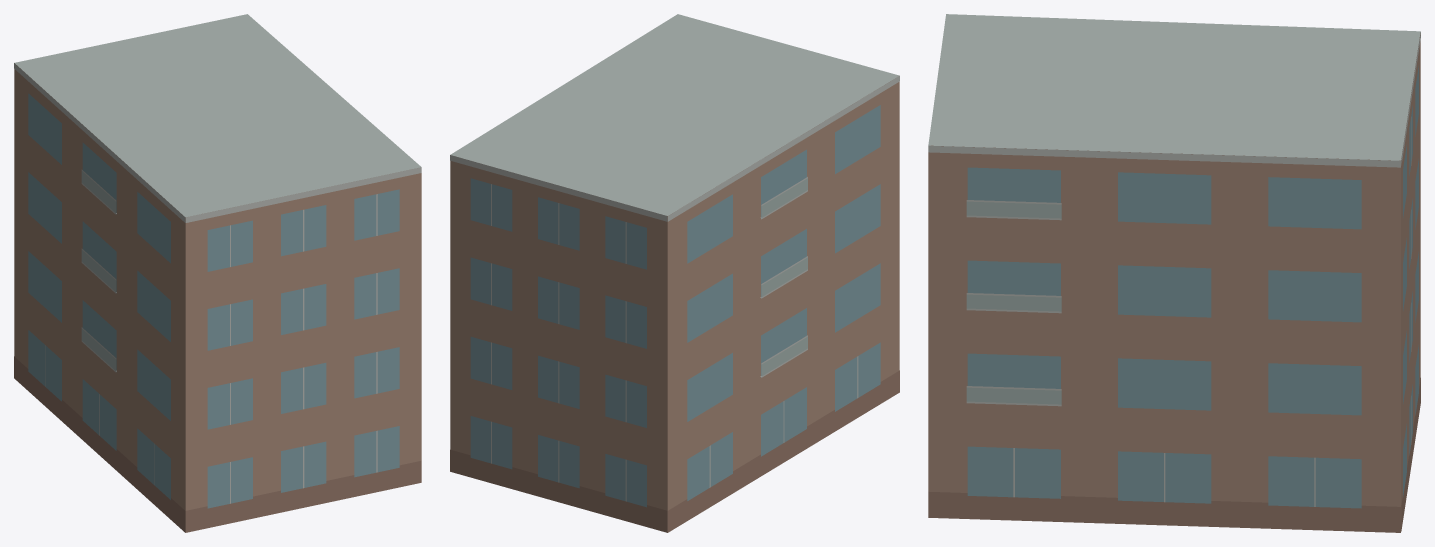
File: survey-upis-32873142.glb
3 renders of one model, left to right at view 1: azimuth 30°, elevation 25°; view 2: azimuth 150°, elevation 25°; view 3: azimuth 270°, elevation 25°, orthographic. The views are drawn at different scales.
Visible parts, largest first — view 1: survey-upis-32873142.tmp; view 2: survey-upis-32873142.tmp; view 3: survey-upis-32873142.tmp.
Part boxes in pixels (left/top/right/bottom): survey-upis-32873142.tmp: left=14, top=14, right=421, bottom=532; survey-upis-32873142.tmp: left=450, top=14, right=899, bottom=532; survey-upis-32873142.tmp: left=928, top=14, right=1420, bottom=532.
Size of the model in its own units: 11.26 by 13.3 by 15.96.
